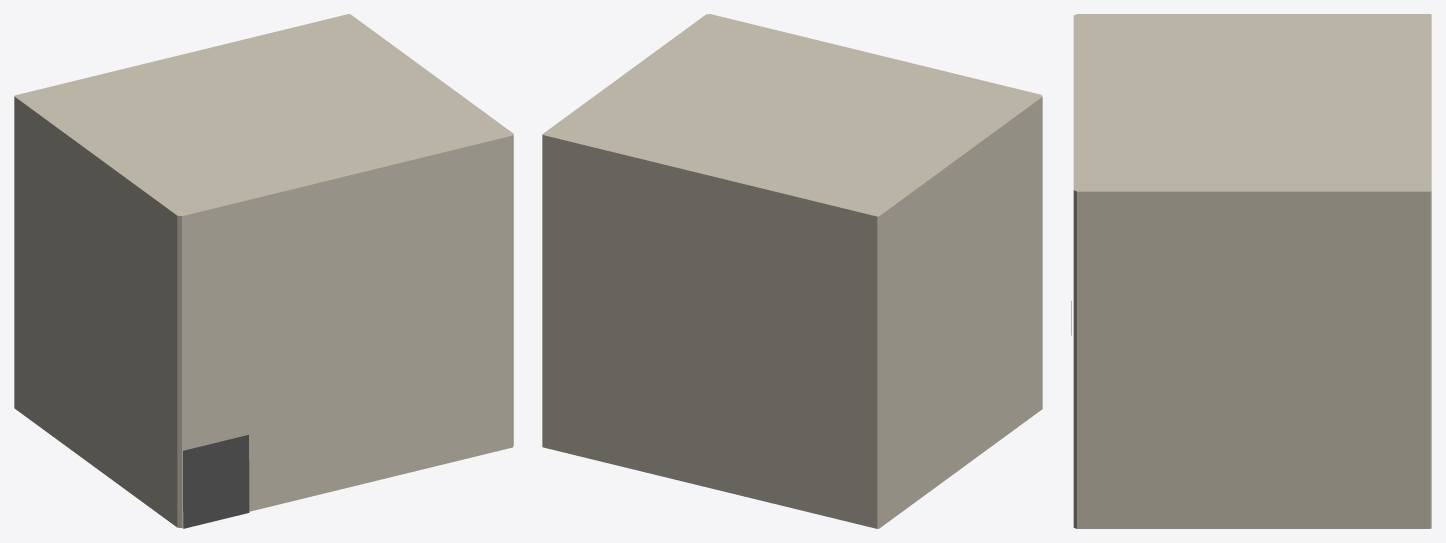
Rendered from loin-etape-1.glb.
3 renders of one model, left to right at view 1: azimuth 30°, elevation 25°; view 2: azimuth 150°, elevation 25°; view 3: azimuth 270°, elevation 25°, orthographic. The views are drawn at different scales.
Visible parts, largest first — view 1: loin; view 2: loin; view 3: loin.
Part boxes in pixels (x1,y1,x2,y2): loin: (14, 14, 513, 528); loin: (542, 14, 1042, 528); loin: (1071, 14, 1431, 528).
Bounding box in the file's own units: 0.6762 × 0.5995 × 0.5806.
